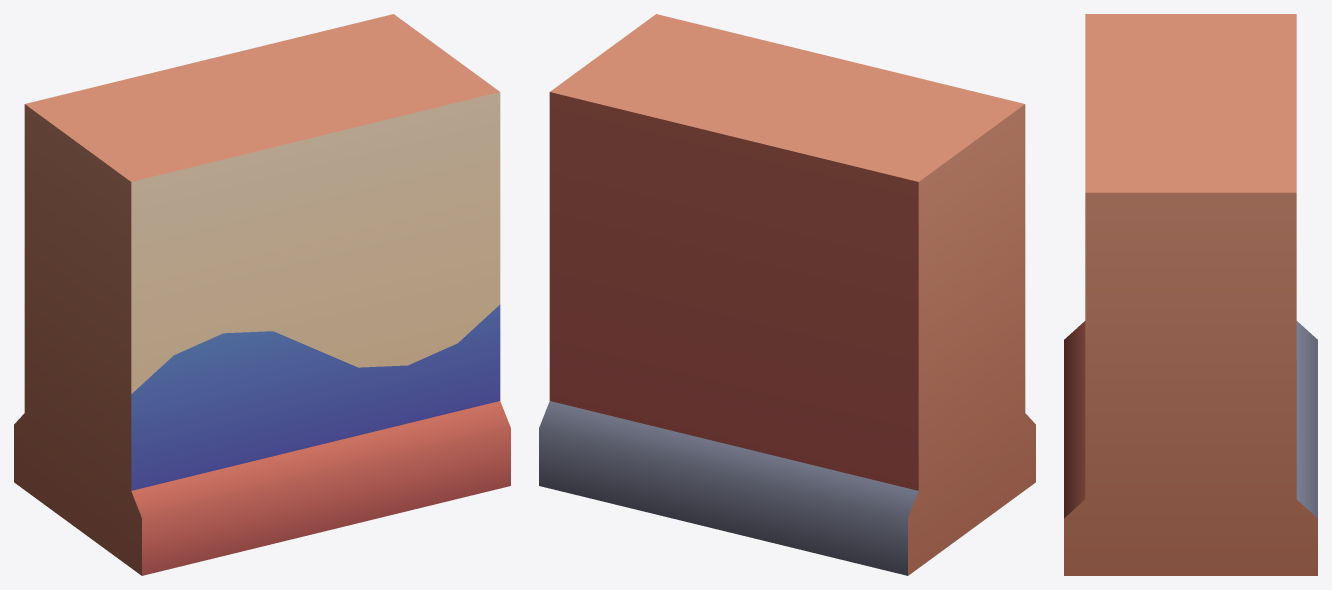
The model's file is wall.obj.
The picture shows the model from 3 angles, left to right: view 1: azimuth 30°, elevation 25°; view 2: azimuth 150°, elevation 25°; view 3: azimuth 270°, elevation 25°; orthographic projection.
Visible parts, largest first — view 1: wall; view 2: wall; view 3: wall.
Boxes of the visible parts, bbox=[...] form: wall: bbox=[14, 14, 510, 575]; wall: bbox=[539, 14, 1035, 575]; wall: bbox=[1064, 14, 1317, 575].
Bounding box in the file's own units: 1 × 1 × 0.6.
